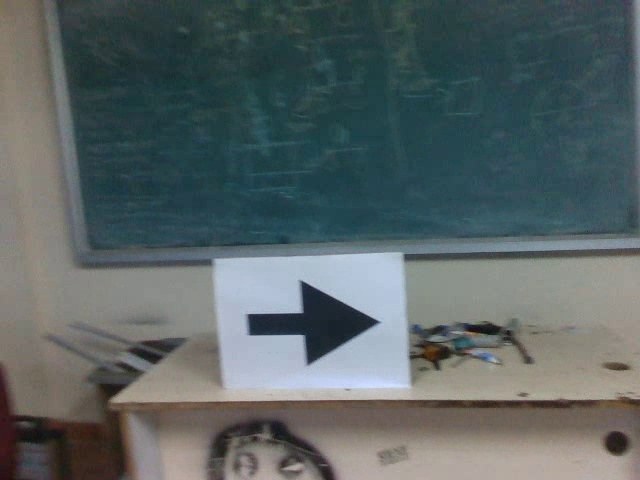Right: (238, 275, 385, 372)
